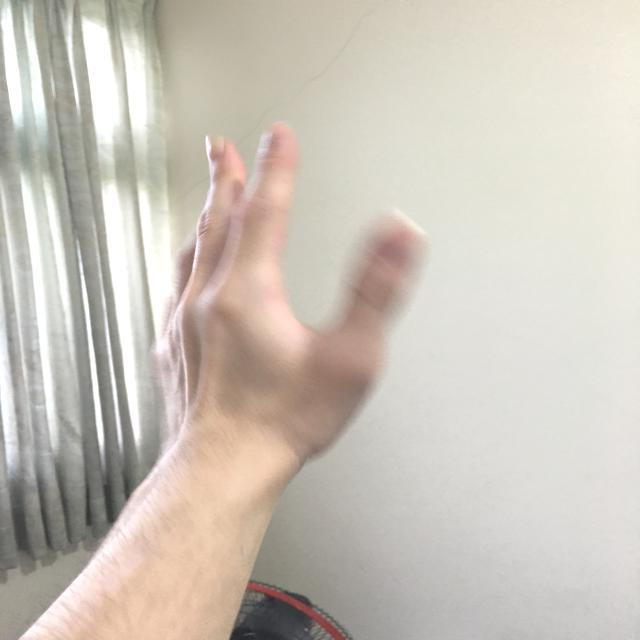no_glove: (121, 110, 451, 491)
